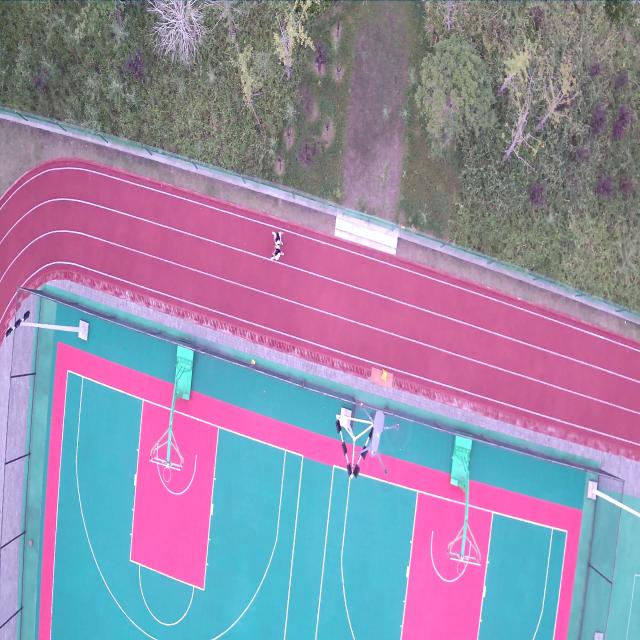UAV: (351, 399, 401, 478)
